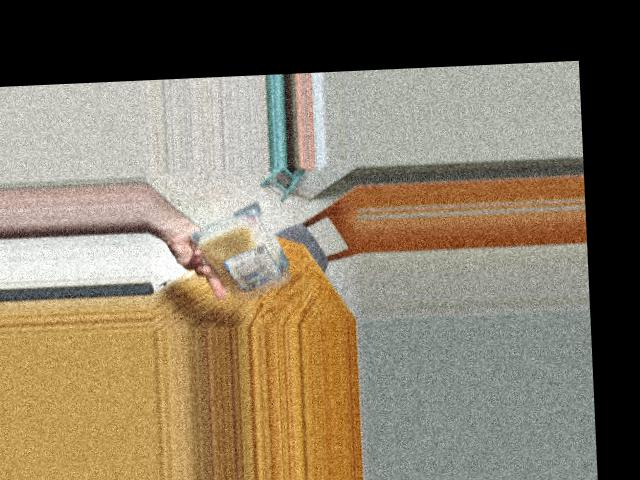cheese: (213, 201, 290, 295)
